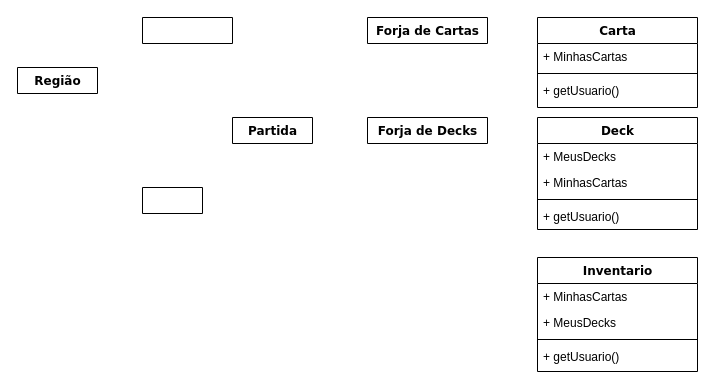
The diagram is 715 pixels wide and 390 high, and some of its shapes have lost their labels. The shapes that lost their labels are listed below. From the top down, each one's box as (x1, y1, x2, y2) in pixels, then its label:
(142, 16, 232, 44): Usuário
(142, 186, 202, 214): Baú
